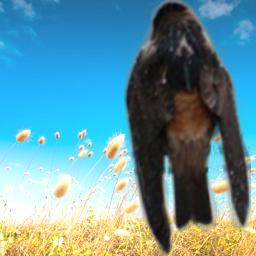Swallow: (124, 0, 251, 256)
